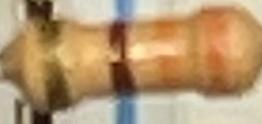Brown: (102, 21, 139, 98)
Orange: (201, 11, 235, 94), (153, 19, 186, 93)
Side-Gold: (38, 19, 75, 108)
